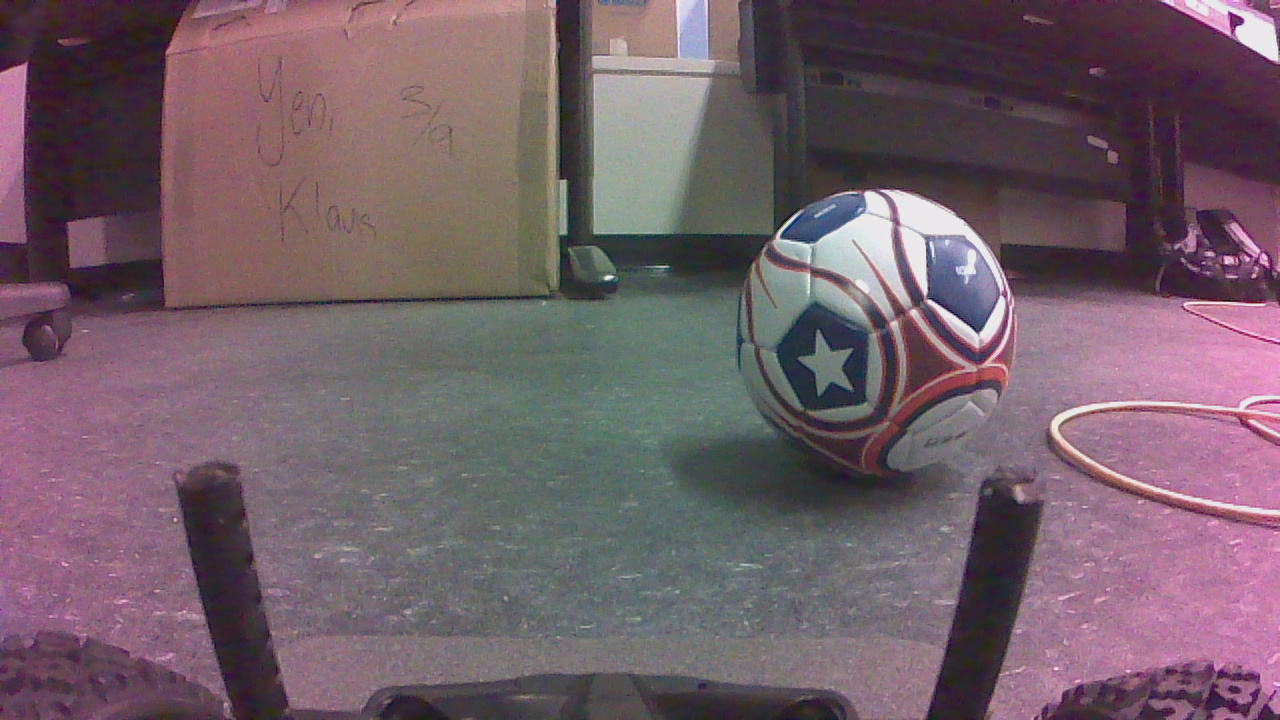ball: (722, 186, 1020, 484)
